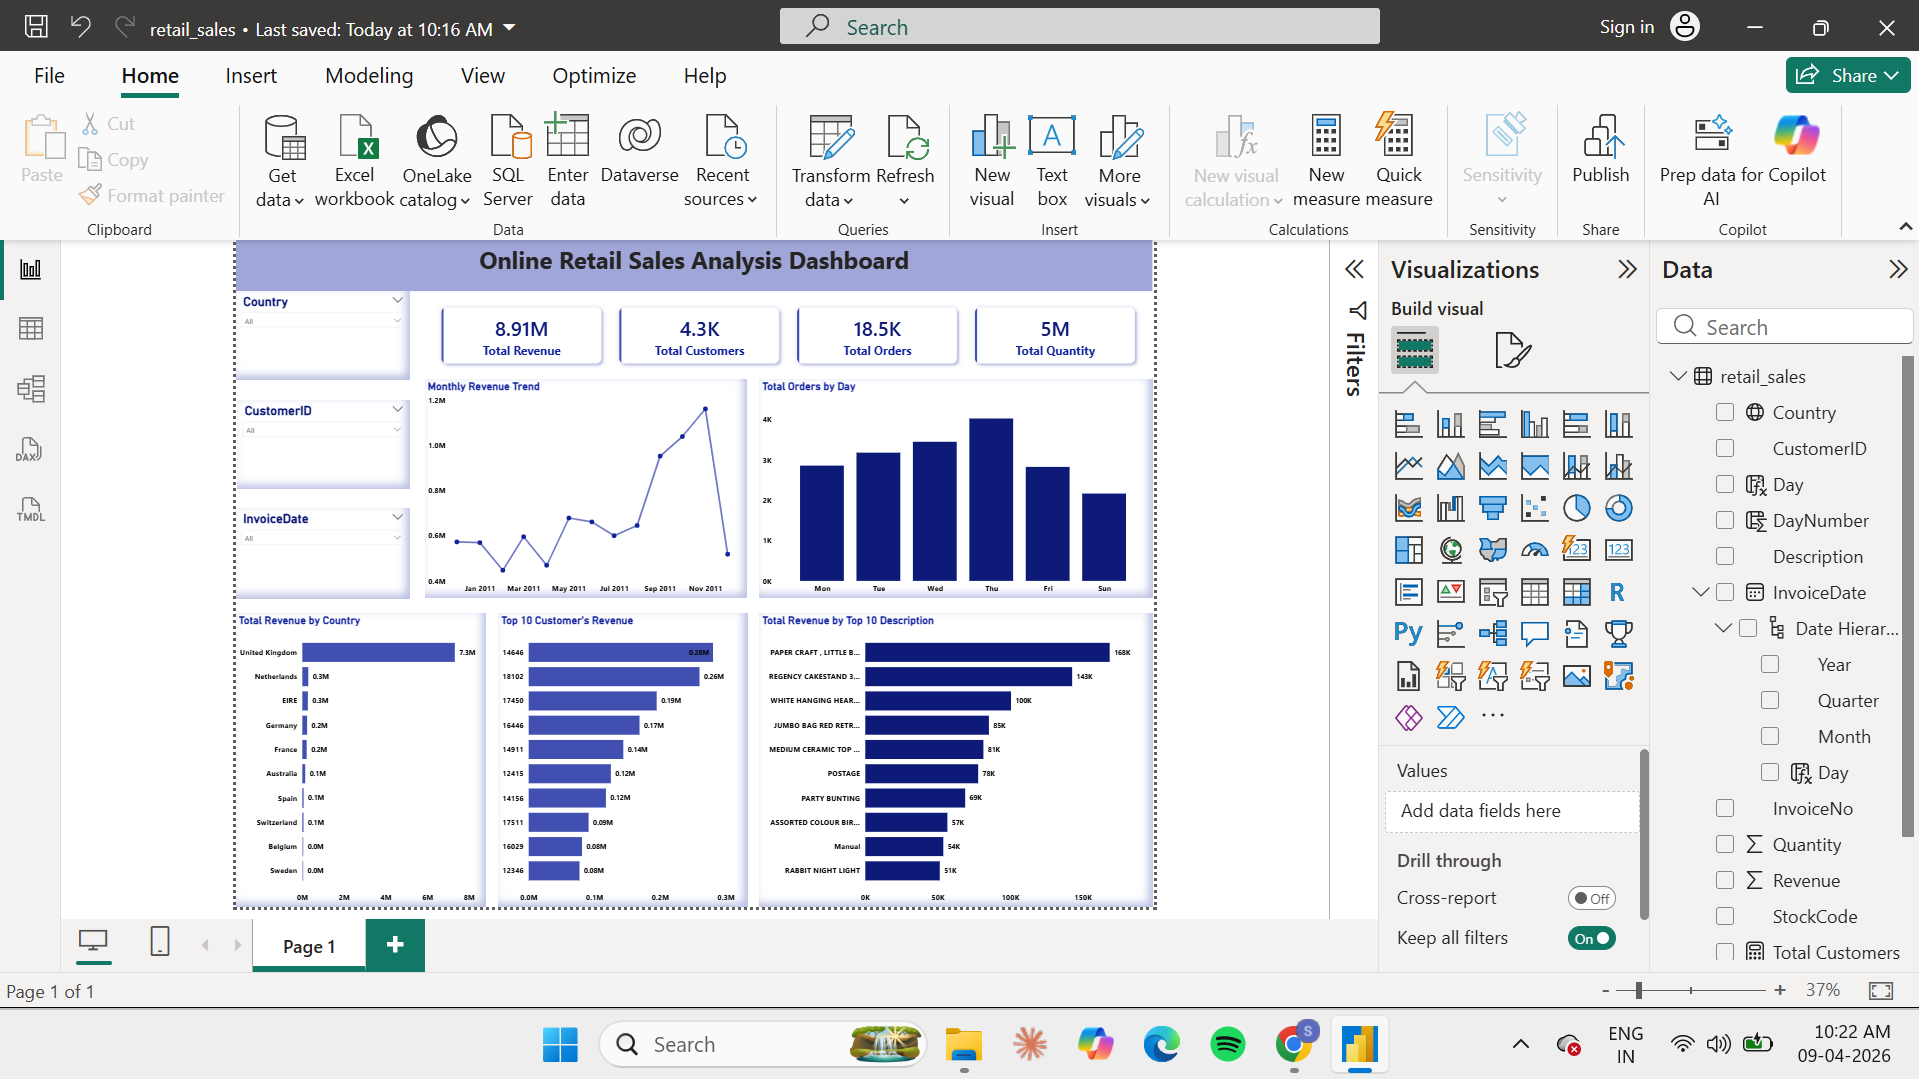

What the dashboard file says about the page in this screenshot:
{"tool":"powerbi","page":{"name":"Page 1","canvas":[1650,1200],"ordinal":0},"visuals":[{"type":"cardVisual","fields":{"Data":["retail_sales.Total Revenue","retail_sales.Total Customers","retail_sales.Total Orders","retail_sales.Total Quantity"]},"box":[340,91.8,1308.9,159.2],"z":0},{"type":"textbox","box":[0,0,1648.9,91.8],"z":1000},{"type":"lineChart","title":"Monthly Revenue Trend","fields":{"Category":["retail_sales.InvoiceDate.Variation.Date Hierarchy.Year","retail_sales.InvoiceDate.Variation.Date Hierarchy.Month"],"Y":["retail_sales.Total Revenue"]},"box":[340,251,580.2,394],"z":2000},{"type":"barChart","fields":{"Category":["retail_sales.Country"],"Y":["retail_sales.Total Revenue"]},"box":[0,672,450.7,528.9],"z":3000},{"type":"clusteredBarChart","title":"Total Revenue by Top 10 Description","fields":{"Category":["retail_sales.Description"],"Y":["retail_sales.Total Revenue"]},"box":[941.9,672,707.1,528.9],"z":4000},{"type":"barChart","title":"Top 10 Customer''s Revenue","fields":{"Category":["retail_sales.CustomerID"],"Y":["retail_sales.Total Revenue"]},"box":[472.3,672,448,528.9],"z":5000},{"type":"clusteredColumnChart","fields":{"Category":["retail_sales.Day"],"Y":["retail_sales.Total Orders"]},"box":[941.9,251,707.1,394],"z":6000},{"type":"slicer","fields":{"Values":["retail_sales.Country"]},"box":[0,91.8,313.1,159.2],"z":7000},{"type":"slicer","fields":{"Values":["retail_sales.InvoiceDate"]},"box":[0,483.1,313.1,161.9],"z":8000},{"type":"slicer","fields":{"Values":["retail_sales.CustomerID"]},"box":[2.7,288.8,310.4,159.2],"z":9000}]}

Visuals, with their boxes on the page's 1650x1200 design canvas (x1, y1, x2, y2). These are canvas units, not pixel positions in the 1919x1079 screenshot, which may show the page scaled, cropped or inside an application window:
cardVisual - retail_sales.Total Revenue x retail_sales.Total Customers: rect(340, 92, 1649, 251)
textbox: rect(0, 0, 1649, 92)
"Monthly Revenue Trend" lineChart: rect(340, 251, 920, 645)
barChart - retail_sales.Country x retail_sales.Total Revenue: rect(0, 672, 451, 1201)
"Total Revenue by Top 10 Description" clusteredBarChart: rect(942, 672, 1649, 1201)
"Top 10 Customer''s Revenue" barChart: rect(472, 672, 920, 1201)
clusteredColumnChart - retail_sales.Day x retail_sales.Total Orders: rect(942, 251, 1649, 645)
slicer - retail_sales.Country: rect(0, 92, 313, 251)
slicer - retail_sales.InvoiceDate: rect(0, 483, 313, 645)
slicer - retail_sales.CustomerID: rect(3, 289, 313, 448)
